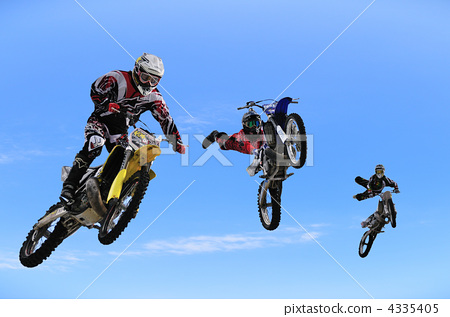helmet: (130, 53, 162, 90)
